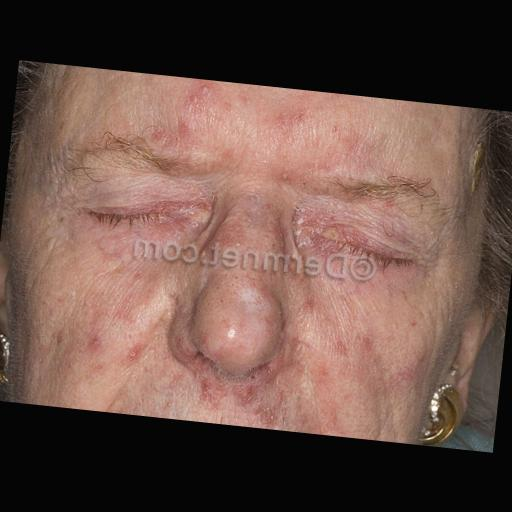Skin_Lesion: (300, 196, 344, 262), (360, 234, 423, 280), (152, 118, 201, 150), (390, 356, 426, 396), (192, 368, 220, 414), (210, 318, 250, 349), (184, 77, 220, 108), (232, 380, 264, 408), (274, 108, 306, 134), (122, 338, 144, 367), (354, 328, 378, 354), (83, 325, 106, 352), (242, 203, 266, 228), (312, 364, 334, 388), (264, 399, 282, 426), (162, 292, 188, 306), (278, 166, 297, 184), (128, 266, 148, 282), (324, 122, 345, 137), (49, 326, 66, 344), (300, 294, 316, 310), (405, 315, 419, 328)
